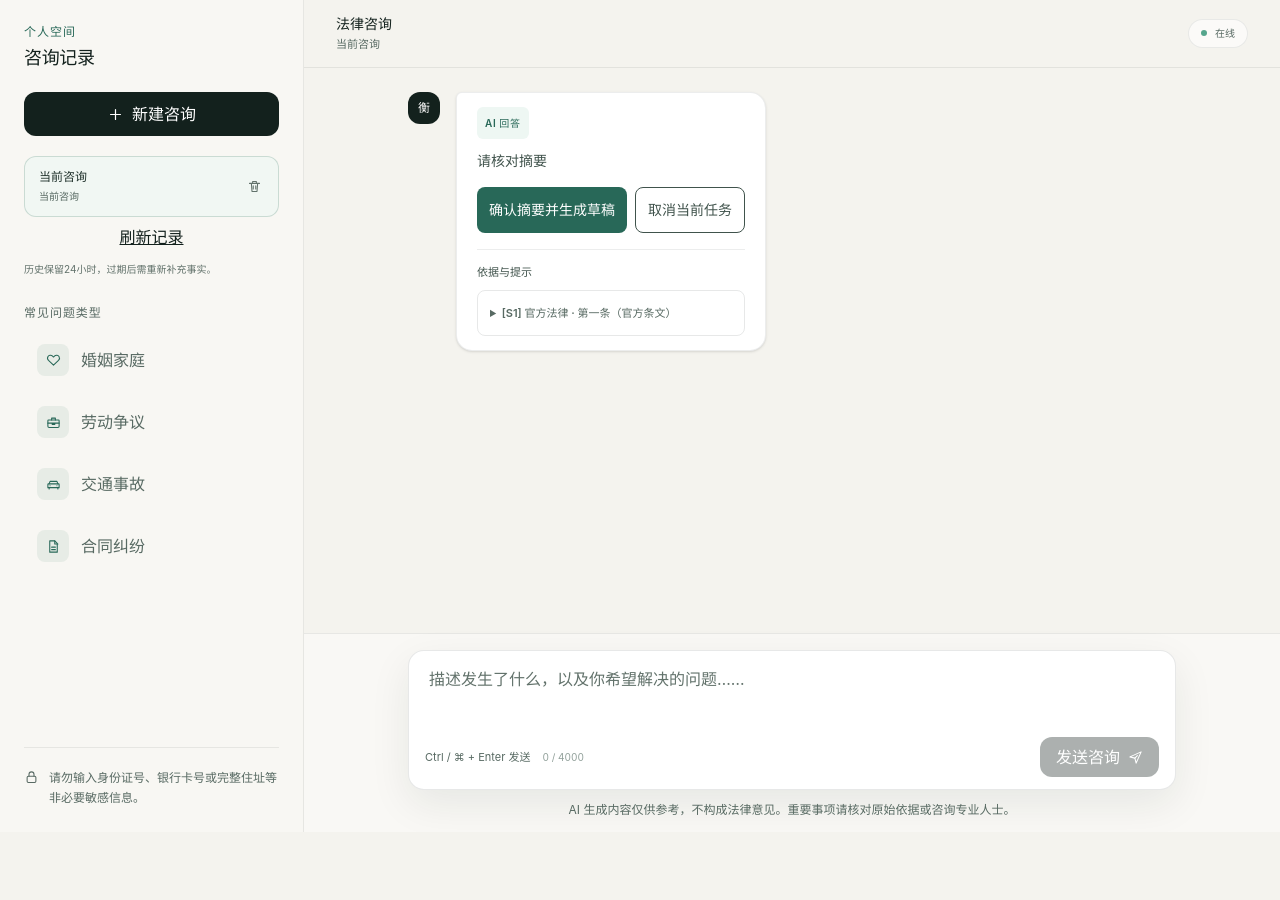
ChatView › offers confirmation only for the latest reviewed task and displays official source provenance
Click the button "确认摘要并生成草稿".
click(552, 210)  # box [477, 186, 627, 232]
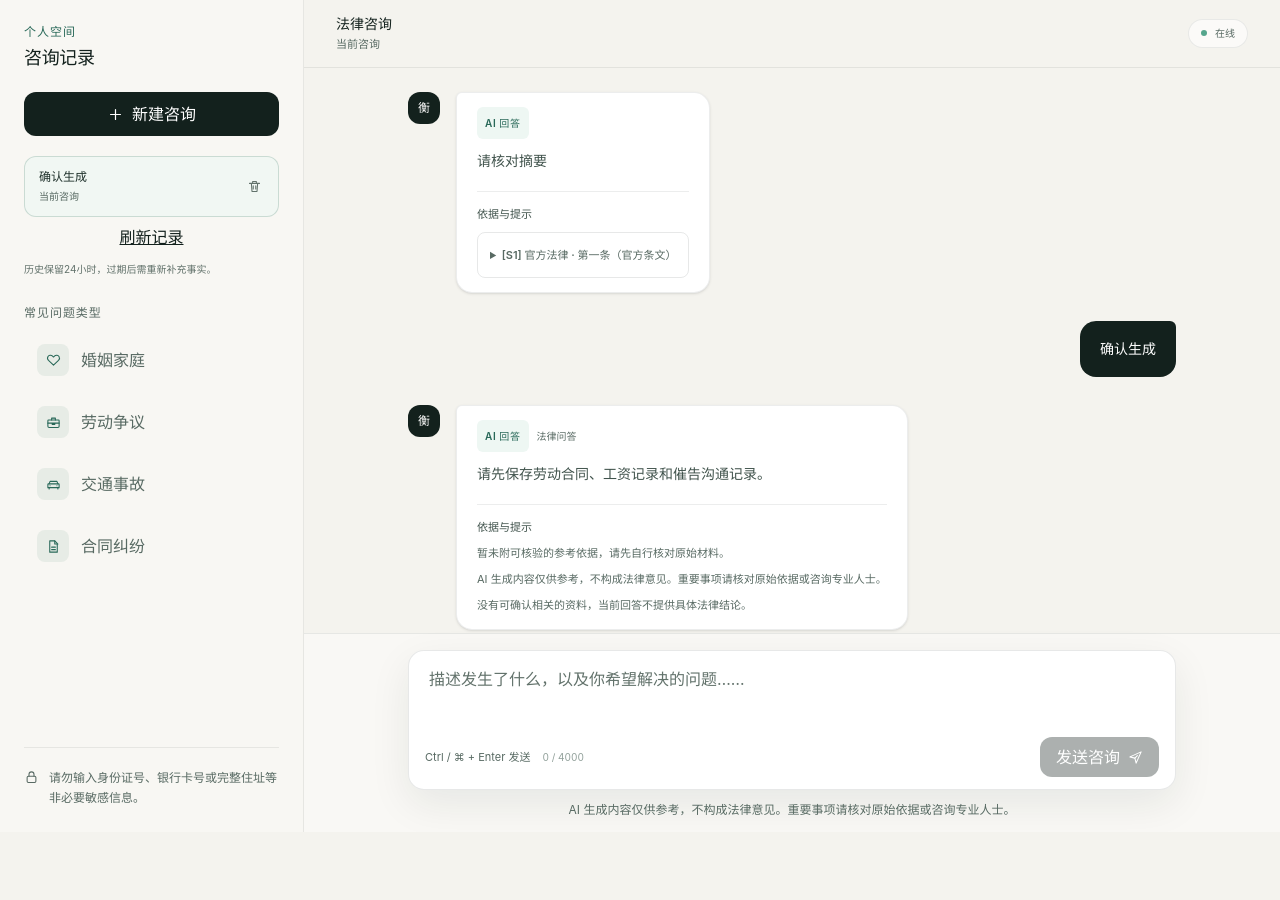
Result: the text "确认摘要并生成草稿" is gone
